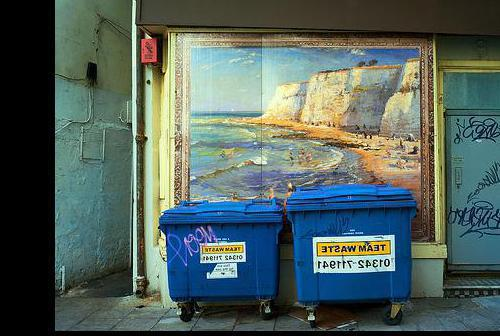Bote de Basura: (284, 184, 413, 325), (157, 192, 283, 321)
